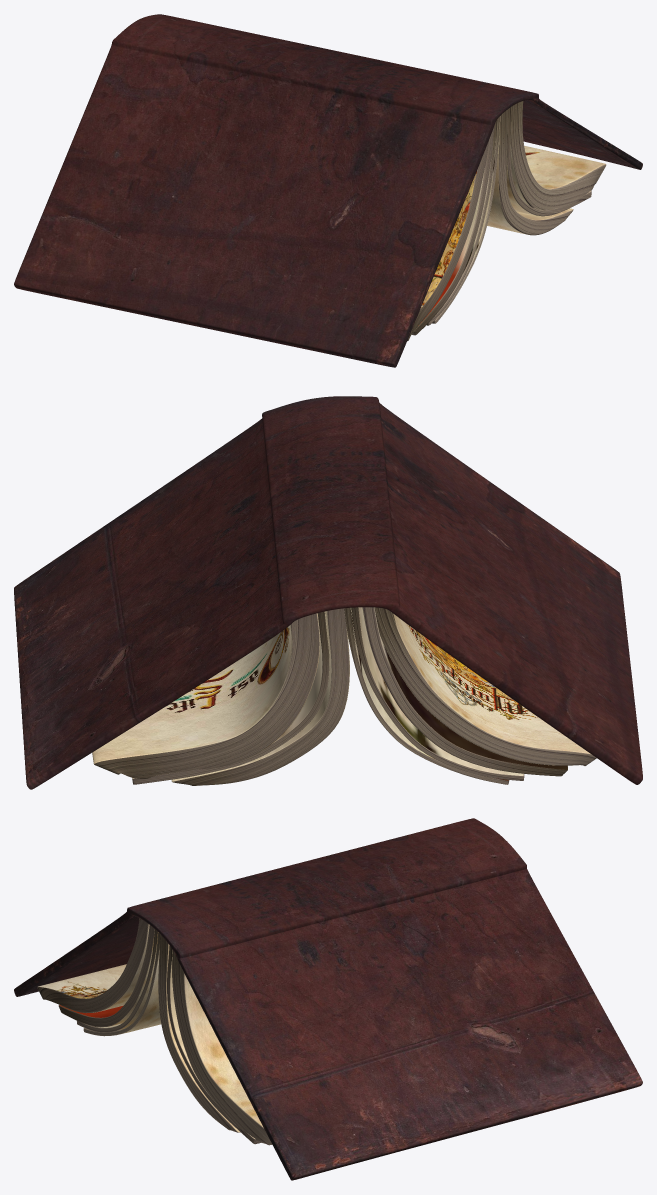
Rendered from fallen_book.glb.
The picture shows the model from 3 angles, top to bottom: view 1: azimuth 30°, elevation 25°; view 2: azimuth 150°, elevation 25°; view 3: azimuth 270°, elevation 25°; orthographic projection. The views are drawn at different scales.
Visible parts, largest first — view 1: Book_Cover, Page5, Page2, Page, Page1, Page3, Page6, Page4; view 2: Book_Cover, Page5, Page, Page2, Page1, Page6, Page3, Page4; view 3: Book_Cover, Page5, Page, Page2, Page1, Page4, Page3, Page6.
Boxes of the visible parts, box(x1,y1,x2,y2) form: Book_Cover: box(14, 14, 642, 367); Page5: box(510, 101, 606, 210); Page2: box(487, 109, 573, 235); Page: box(407, 140, 489, 340); Page1: box(411, 126, 494, 335); Page3: box(506, 107, 591, 216); Page6: box(426, 120, 496, 325); Page4: box(432, 116, 499, 323); Book_Cover: box(14, 396, 642, 789); Page5: box(92, 613, 320, 778); Page: box(374, 607, 596, 765); Page2: box(171, 608, 349, 785); Page1: box(362, 607, 567, 776); Page6: box(351, 607, 524, 780); Page3: box(132, 611, 329, 784); Page4: box(344, 607, 509, 784); Book_Cover: box(14, 818, 642, 1180); Page5: box(172, 950, 272, 1145); Page: box(37, 918, 149, 1013); Page2: box(158, 934, 240, 1132); Page1: box(58, 925, 154, 1027); Page4: box(83, 932, 161, 1036); Page3: box(167, 946, 260, 1144); Page6: box(77, 929, 158, 1032).
Bounding box in the file's own units: 19.94 × 5.65 × 19.01.
Materials: 7 (7 with a texture image).
